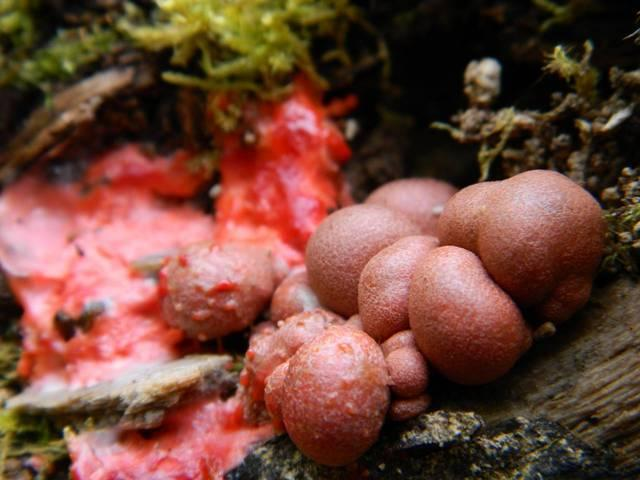Non-edible Mushroom: (246, 166, 608, 465), (436, 167, 607, 325), (265, 323, 392, 466), (406, 243, 532, 384), (303, 201, 420, 316), (156, 239, 276, 340), (355, 233, 441, 340)
